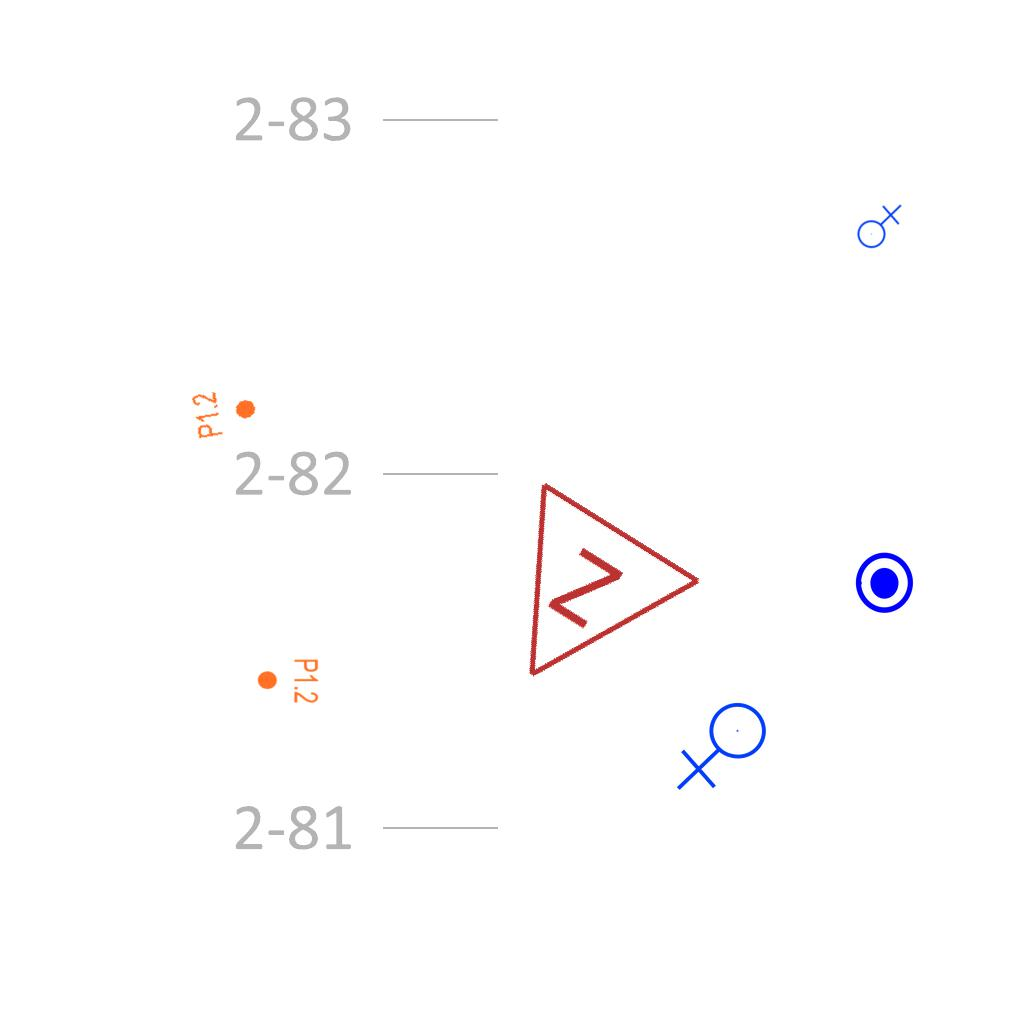Downlight_LED_Einbauleuchten_Flur: (189, 383, 261, 441), (256, 658, 320, 704)
Elektroanschluss_allgemein_230V_Geraeteanschlussdose_230V: (676, 701, 775, 795), (853, 202, 902, 249)
Taster: (849, 550, 915, 616)
Zimmersignalleuchte: (442, 467, 716, 741)
